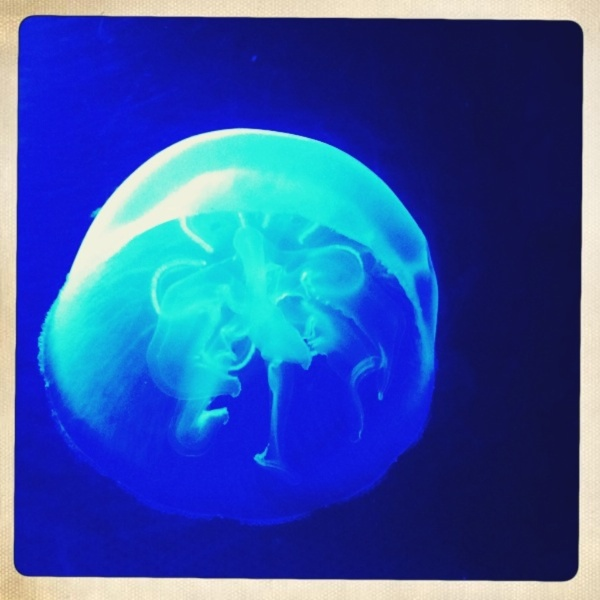Jellyfish: (38, 117, 456, 531)
